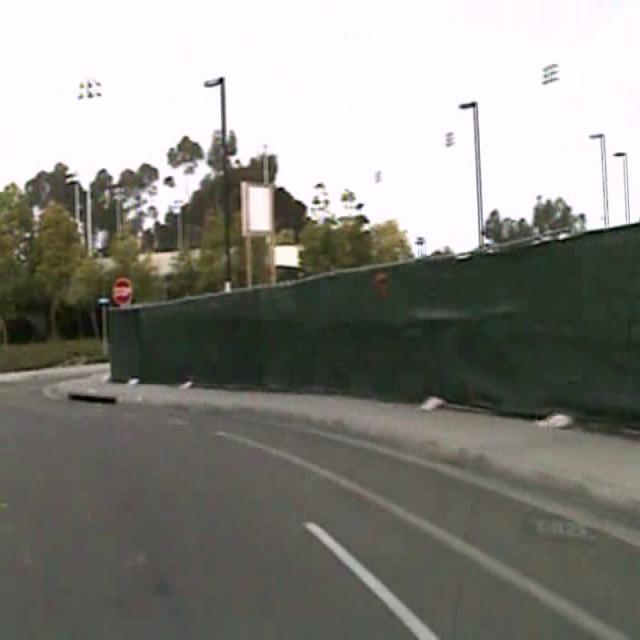stop_sign: (112, 276, 132, 308)
